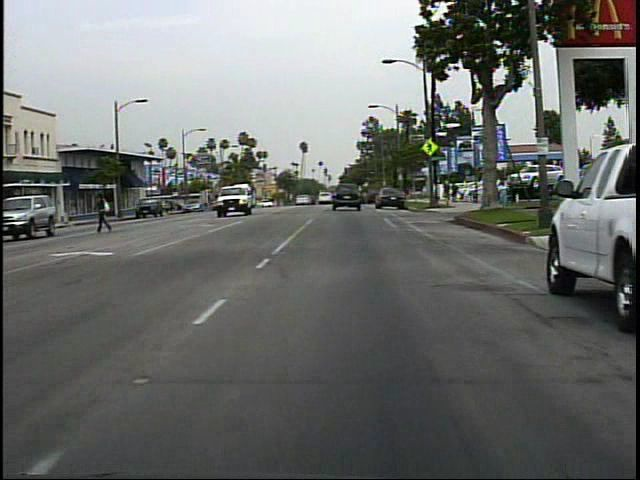person: (96, 187, 119, 238), (495, 178, 510, 212)
